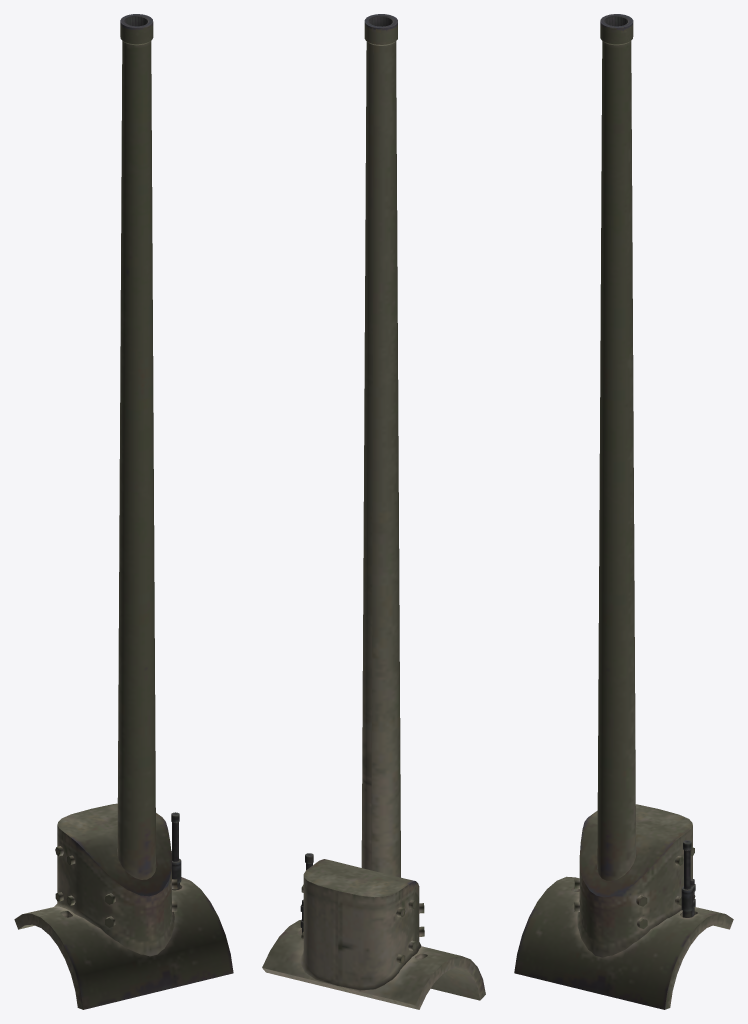
The model's file is Gun_05.glb.
3 views of the same model, side by side, from view 1: azimuth 30°, elevation 25°; view 2: azimuth 150°, elevation 25°; view 3: azimuth 330°, elevation 25° (orthographic). The views are drawn at different scales.
Parts seen in each view (by area): view 1: set_0_group_0; view 2: set_0_group_0; view 3: set_0_group_0.
Part boxes in pixels (x1=…): set_0_group_0: x1=14, y1=14, x2=233, y2=1009; set_0_group_0: x1=262, y1=14, x2=485, y2=1009; set_0_group_0: x1=514, y1=14, x2=733, y2=1009.
Bounding box in the file's own units: 0.5874 × 3.56 × 0.4676.
Materials: 1 (1 with a texture image).
